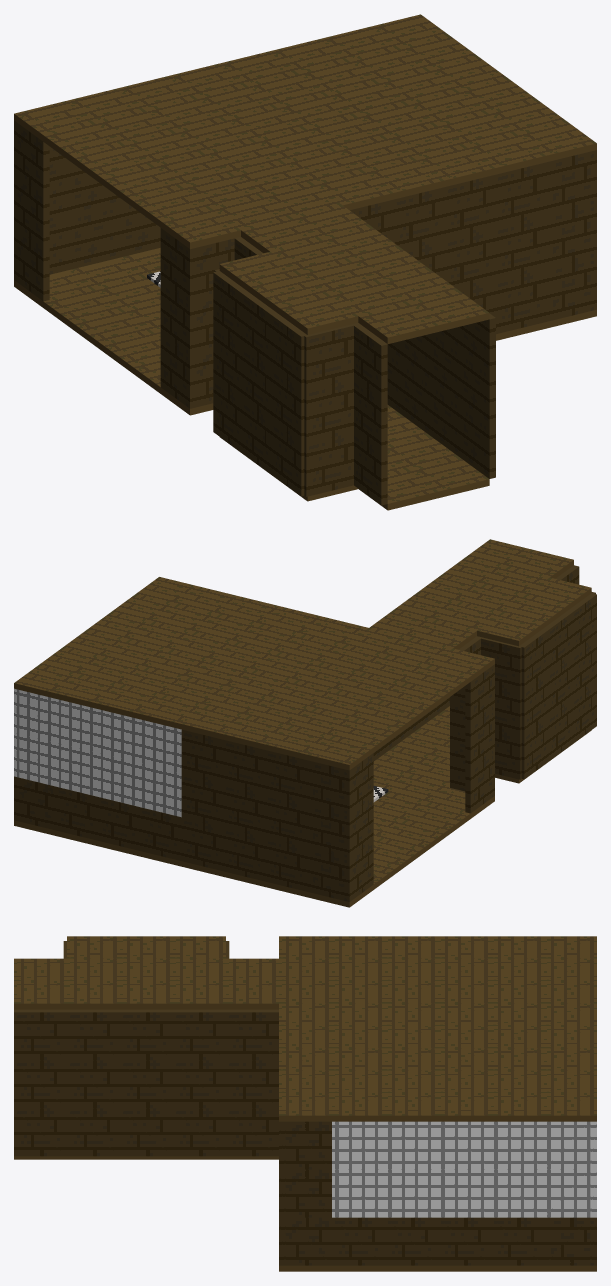
File: Floor 1.gltf
3 renders of one model, top to bottom at view 1: azimuth 30°, elevation 25°; view 2: azimuth 150°, elevation 25°; view 3: azimuth 270°, elevation 25°, orthographic. The views are drawn at different scales.
Parts seen in each view (by area): view 1: Floor -col (×74), Wall-col (×35), Corner-col (×9); view 2: Floor -col (×72), Wall-col (×30), Corner-col (×9); view 3: Floor -col (×61), Wall-col (×27), Corner-col (×6).
Boxes of the visible parts, x1,y1,x2,y2 form: Floor -col (×74): (14,14,596,510); Wall-col (×35): (68,162,545,505); Corner-col (×9): (14,120,596,408); Floor -col (×72): (14,539,591,871); Wall-col (×30): (56,593,596,891); Corner-col (×9): (14,664,494,901); Floor -col (×61): (14,936,596,1121); Wall-col (×27): (14,1009,543,1265); Corner-col (×6): (279,1121,596,1265).
Bounding box in the file's own units: 8.13 × 3.25 × 11.
6 materials, 6 textured.
